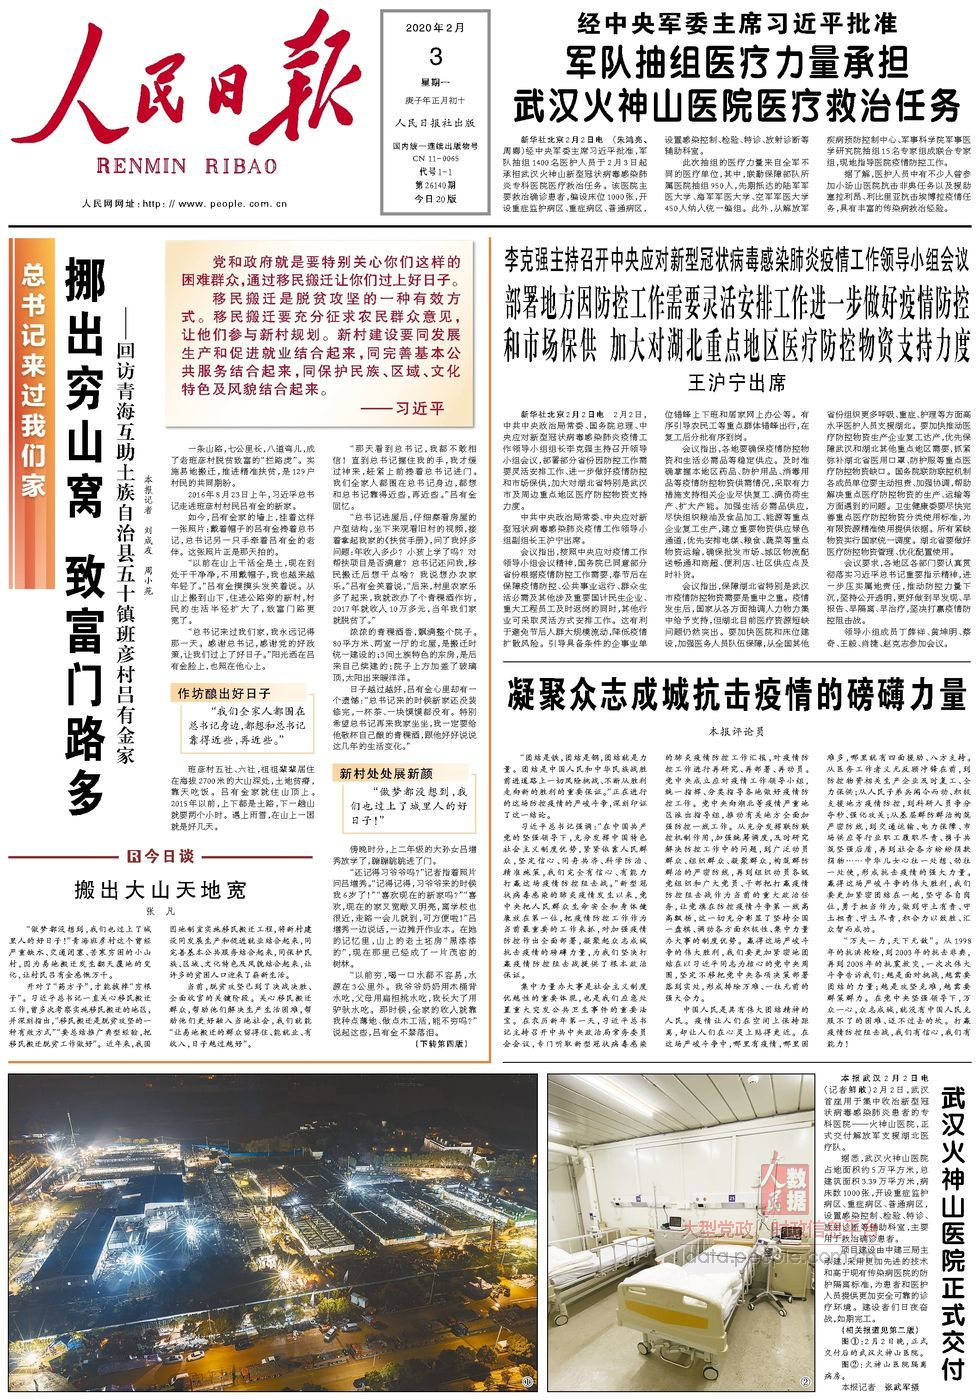pic: (3, 1069, 543, 1395), (543, 1070, 820, 1397)
